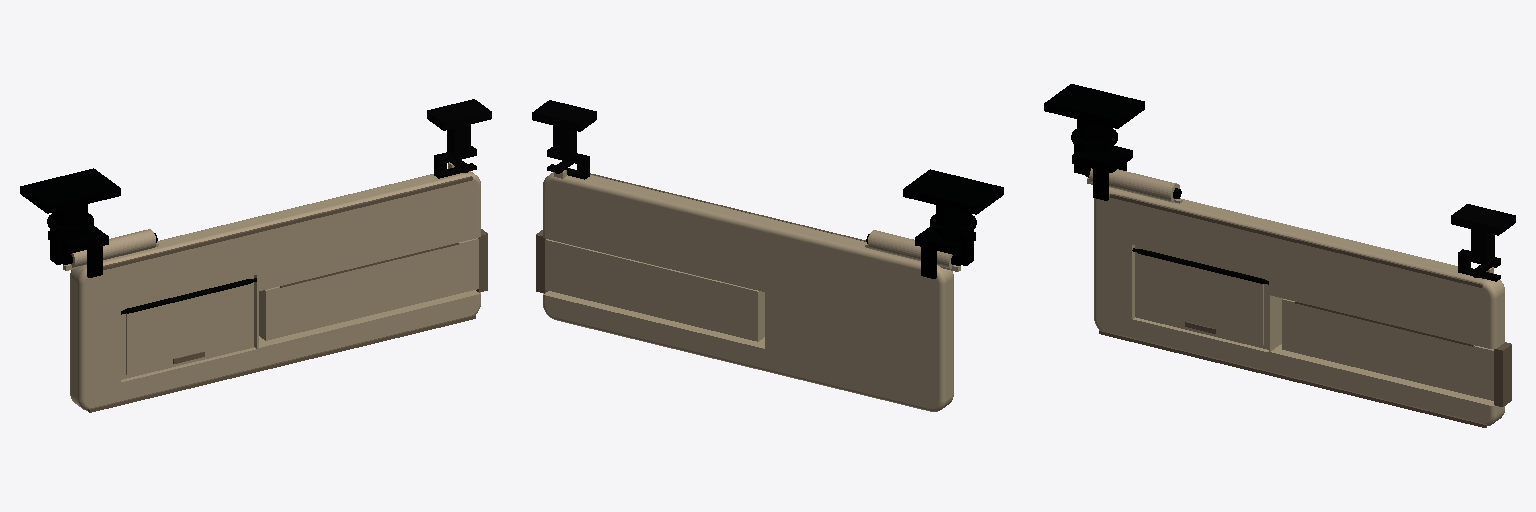
URDF robot description (padded_windshield_visor):
<robot name="padded_windshield_visor">
  <material name="warm_greige_padded_vinyl">
    <color rgba="0.68 0.62 0.52 1" />
    </material>
  <material name="slightly_dark_seam">
    <color rgba="0.43 0.38 0.31 1" />
    </material>
  <material name="dark_molded_plastic">
    <color rgba="0.03 0.032 0.03 1" />
    </material>
  <material name="satin_black_bracket">
    <color rgba="0.01 0.012 0.012 1" />
    </material>
  <material name="muted_mirror_glass">
    <color rgba="0.72 0.8 0.86 0.72" />
    </material>
  <link name="roof_bracket">
    <visual name="roof_mount_plate">
      <origin xyz="0 0 0.048" rpy="0 0 0" />
      <geometry>
        <box size="0.095 0.06 0.01" />
        </geometry>
      <material name="satin_black_bracket">
        <color rgba="0.01 0.012 0.012 1" />
        </material>
      </visual>
    <visual name="pivot_socket">
      <origin xyz="0 0 0.026" rpy="0 0 0" />
      <geometry>
        <cylinder radius="0.02" length="0.034" />
        </geometry>
      <material name="satin_black_bracket">
        <color rgba="0.01 0.012 0.012 1" />
        </material>
      </visual>
    <visual name="lower_washer">
      <origin xyz="0 0 0.01" rpy="0 0 0" />
      <geometry>
        <cylinder radius="0.026" length="0.006" />
        </geometry>
      <material name="satin_black_bracket">
        <color rgba="0.01 0.012 0.012 1" />
        </material>
      </visual>
    <collision name="roof_mount_plate">
      <origin xyz="0 0 0.048" rpy="0 0 0" />
      <geometry>
        <box size="0.095 0.06 0.01" />
        </geometry>
      </collision>
    <collision name="pivot_socket">
      <origin xyz="0 0 0.026" rpy="0 0 0" />
      <geometry>
        <cylinder radius="0.02" length="0.034" />
        </geometry>
      </collision>
    <collision name="lower_washer">
      <origin xyz="0 0 0.01" rpy="0 0 0" />
      <geometry>
        <cylinder radius="0.026" length="0.006" />
        </geometry>
      </collision>
    </link>
  <link name="retaining_clip">
    <visual name="clip_roof_base">
      <geometry>
        <box size="0.062 0.038 0.01" />
        </geometry>
      <material name="dark_molded_plastic">
        <color rgba="0.03 0.032 0.03 1" />
        </material>
      </visual>
    <visual name="clip_stem">
      <origin xyz="0 0 -0.028" rpy="0 0 0" />
      <geometry>
        <box size="0.02 0.018 0.046" />
        </geometry>
      <material name="dark_molded_plastic">
        <color rgba="0.03 0.032 0.03 1" />
        </material>
      </visual>
    <visual name="upper_jaw">
      <origin xyz="0 0 -0.049" rpy="0 0 0" />
      <geometry>
        <box size="0.04 0.01 0.008" />
        </geometry>
      <material name="dark_molded_plastic">
        <color rgba="0.03 0.032 0.03 1" />
        </material>
      </visual>
    <visual name="lower_jaw">
      <origin xyz="0 0 -0.068" rpy="0 0 0" />
      <geometry>
        <box size="0.04 0.01 0.004" />
        </geometry>
      <material name="dark_molded_plastic">
        <color rgba="0.03 0.032 0.03 1" />
        </material>
      </visual>
    <visual name="jaw_backbone">
      <origin xyz="-0.024 0 -0.0575" rpy="0 0 0" />
      <geometry>
        <box size="0.01 0.01 0.025" />
        </geometry>
      <material name="dark_molded_plastic">
        <color rgba="0.03 0.032 0.03 1" />
        </material>
      </visual>
    <collision name="clip_roof_base">
      <geometry>
        <box size="0.062 0.038 0.01" />
        </geometry>
      </collision>
    <collision name="clip_stem">
      <origin xyz="0 0 -0.028" rpy="0 0 0" />
      <geometry>
        <box size="0.02 0.018 0.046" />
        </geometry>
      </collision>
    <collision name="upper_jaw">
      <origin xyz="0 0 -0.049" rpy="0 0 0" />
      <geometry>
        <box size="0.04 0.01 0.008" />
        </geometry>
      </collision>
    <collision name="lower_jaw">
      <origin xyz="0 0 -0.068" rpy="0 0 0" />
      <geometry>
        <box size="0.04 0.01 0.004" />
        </geometry>
      </collision>
    <collision name="jaw_backbone">
      <origin xyz="-0.024 0 -0.0575" rpy="0 0 0" />
      <geometry>
        <box size="0.01 0.01 0.025" />
        </geometry>
      </collision>
    </link>
  <link name="swivel">
    <visual name="swivel_disk">
      <origin xyz="0 0 0.003" rpy="0 0 0" />
      <geometry>
        <cylinder radius="0.017" length="0.012" />
        </geometry>
      <material name="satin_black_bracket">
        <color rgba="0.01 0.012 0.012 1" />
        </material>
      </visual>
    <visual name="drop_link">
      <origin xyz="-0.014 0 -0.016" rpy="0 0 0" />
      <geometry>
        <box size="0.016 0.018 0.038" />
        </geometry>
      <material name="satin_black_bracket">
        <color rgba="0.01 0.012 0.012 1" />
        </material>
      </visual>
    <visual name="hinge_pin">
      <origin xyz="0.05 0 -0.035" rpy="0 1.5708 0" />
      <geometry>
        <cylinder radius="0.006" length="0.118" />
        </geometry>
      <material name="satin_black_bracket">
        <color rgba="0.01 0.012 0.012 1" />
        </material>
      </visual>
    <visual name="front_yoke_cheek">
      <origin xyz="0.02 -0.02 -0.035" rpy="0 0 0" />
      <geometry>
        <box size="0.018 0.006 0.036" />
        </geometry>
      <material name="satin_black_bracket">
        <color rgba="0.01 0.012 0.012 1" />
        </material>
      </visual>
    <visual name="rear_yoke_cheek">
      <origin xyz="0.02 0.02 -0.035" rpy="0 0 0" />
      <geometry>
        <box size="0.018 0.006 0.036" />
        </geometry>
      <material name="satin_black_bracket">
        <color rgba="0.01 0.012 0.012 1" />
        </material>
      </visual>
    <visual name="yoke_top_bridge">
      <origin xyz="0.01 0 -0.012" rpy="0 0 0" />
      <geometry>
        <box size="0.052 0.046 0.01" />
        </geometry>
      <material name="satin_black_bracket">
        <color rgba="0.01 0.012 0.012 1" />
        </material>
      </visual>
    <collision name="swivel_disk">
      <origin xyz="0 0 0.003" rpy="0 0 0" />
      <geometry>
        <cylinder radius="0.017" length="0.012" />
        </geometry>
      </collision>
    <collision name="drop_link">
      <origin xyz="-0.014 0 -0.016" rpy="0 0 0" />
      <geometry>
        <box size="0.016 0.018 0.038" />
        </geometry>
      </collision>
    <collision name="hinge_pin">
      <origin xyz="0.05 0 -0.035" rpy="0 1.5708 0" />
      <geometry>
        <cylinder radius="0.006" length="0.118" />
        </geometry>
      </collision>
    <collision name="front_yoke_cheek">
      <origin xyz="0.02 -0.02 -0.035" rpy="0 0 0" />
      <geometry>
        <box size="0.018 0.006 0.036" />
        </geometry>
      </collision>
    <collision name="rear_yoke_cheek">
      <origin xyz="0.02 0.02 -0.035" rpy="0 0 0" />
      <geometry>
        <box size="0.018 0.006 0.036" />
        </geometry>
      </collision>
    <collision name="yoke_top_bridge">
      <origin xyz="0.01 0 -0.012" rpy="0 0 0" />
      <geometry>
        <box size="0.052 0.046 0.01" />
        </geometry>
      </collision>
    </link>
  <link name="visor">
    <visual name="padded_body">
      <geometry>
        <mesh filename="assets/meshes/visor_padded_body.obj" />
        </geometry>
      <material name="warm_greige_padded_vinyl">
        <color rgba="0.68 0.62 0.52 1" />
        </material>
      </visual>
    <visual name="hinge_sleeve">
      <origin xyz="0.052 0 0" rpy="0 1.5708 0" />
      <geometry>
        <cylinder radius="0.011" length="0.105" />
        </geometry>
      <material name="warm_greige_padded_vinyl">
        <color rgba="0.68 0.62 0.52 1" />
        </material>
      </visual>
    <visual name="sleeve_neck">
      <origin xyz="0.052 0 -0.01" rpy="0 0 0" />
      <geometry>
        <box size="0.12 0.006 0.006" />
        </geometry>
      <material name="warm_greige_padded_vinyl">
        <color rgba="0.68 0.62 0.52 1" />
        </material>
      </visual>
    <visual name="mirror_glass">
      <origin xyz="0.145 -0.0085 -0.116" rpy="0 0 0" />
      <geometry>
        <box size="0.152 0.001 0.064" />
        </geometry>
      <material name="muted_mirror_glass">
        <color rgba="0.72 0.8 0.86 0.72" />
        </material>
      </visual>
    <visual name="mirror_hinge_pin">
      <origin xyz="0.145 -0.012 -0.076" rpy="0 1.5708 0" />
      <geometry>
        <cylinder radius="0.002" length="0.184" />
        </geometry>
      <material name="dark_molded_plastic">
        <color rgba="0.03 0.032 0.03 1" />
        </material>
      </visual>
    <visual name="clip_pin">
      <origin xyz="0.502 0 0" rpy="1.5708 0 0" />
      <geometry>
        <cylinder radius="0.005" length="0.034" />
        </geometry>
      <material name="dark_molded_plastic">
        <color rgba="0.03 0.032 0.03 1" />
        </material>
      </visual>
    <visual name="clip_pin_boss">
      <origin xyz="0.502 0.01 -0.007" rpy="0 0 0" />
      <geometry>
        <box size="0.012 0.008 0.008" />
        </geometry>
      <material name="warm_greige_padded_vinyl">
        <color rgba="0.68 0.62 0.52 1" />
        </material>
      </visual>
    <visual name="top_stitched_edge">
      <origin xyz="0.27 -0.015 -0.014" rpy="0 0 0" />
      <geometry>
        <box size="0.48 0.003 0.004" />
        </geometry>
      <material name="slightly_dark_seam">
        <color rgba="0.43 0.38 0.31 1" />
        </material>
      </visual>
    <visual name="lower_stitched_edge">
      <origin xyz="0.265 -0.015 -0.186" rpy="0 0 0" />
      <geometry>
        <box size="0.5 0.003 0.004" />
        </geometry>
      <material name="slightly_dark_seam">
        <color rgba="0.43 0.38 0.31 1" />
        </material>
      </visual>
    <collision name="padded_body">
      <geometry>
        <mesh filename="assets/meshes/visor_padded_body.obj" />
        </geometry>
      </collision>
    <collision name="hinge_sleeve">
      <origin xyz="0.052 0 0" rpy="0 1.5708 0" />
      <geometry>
        <cylinder radius="0.011" length="0.105" />
        </geometry>
      </collision>
    <collision name="sleeve_neck">
      <origin xyz="0.052 0 -0.01" rpy="0 0 0" />
      <geometry>
        <box size="0.12 0.006 0.006" />
        </geometry>
      </collision>
    <collision name="mirror_glass">
      <origin xyz="0.145 -0.0085 -0.116" rpy="0 0 0" />
      <geometry>
        <box size="0.152 0.001 0.064" />
        </geometry>
      </collision>
    <collision name="mirror_hinge_pin">
      <origin xyz="0.145 -0.012 -0.076" rpy="0 1.5708 0" />
      <geometry>
        <cylinder radius="0.002" length="0.184" />
        </geometry>
      </collision>
    <collision name="clip_pin">
      <origin xyz="0.502 0 0" rpy="1.5708 0 0" />
      <geometry>
        <cylinder radius="0.005" length="0.034" />
        </geometry>
      </collision>
    <collision name="clip_pin_boss">
      <origin xyz="0.502 0.01 -0.007" rpy="0 0 0" />
      <geometry>
        <box size="0.012 0.008 0.008" />
        </geometry>
      </collision>
    <collision name="top_stitched_edge">
      <origin xyz="0.27 -0.015 -0.014" rpy="0 0 0" />
      <geometry>
        <box size="0.48 0.003 0.004" />
        </geometry>
      </collision>
    <collision name="lower_stitched_edge">
      <origin xyz="0.265 -0.015 -0.186" rpy="0 0 0" />
      <geometry>
        <box size="0.5 0.003 0.004" />
        </geometry>
      </collision>
    </link>
  <link name="mirror_cover">
    <visual name="inset_flap">
      <origin xyz="0 0 -0.039" rpy="0 0 0" />
      <geometry>
        <box size="0.16 0.003 0.078" />
        </geometry>
      <material name="warm_greige_padded_vinyl">
        <color rgba="0.68 0.62 0.52 1" />
        </material>
      </visual>
    <visual name="flap_hinge_barrel">
      <origin xyz="0 0 0" rpy="0 1.5708 0" />
      <geometry>
        <cylinder radius="0.003" length="0.16" />
        </geometry>
      <material name="dark_molded_plastic">
        <color rgba="0.03 0.032 0.03 1" />
        </material>
      </visual>
    <visual name="finger_lip">
      <origin xyz="0 -0.002 -0.075" rpy="0 0 0" />
      <geometry>
        <box size="0.04 0.002 0.006" />
        </geometry>
      <material name="slightly_dark_seam">
        <color rgba="0.43 0.38 0.31 1" />
        </material>
      </visual>
    <collision name="inset_flap">
      <origin xyz="0 0 -0.039" rpy="0 0 0" />
      <geometry>
        <box size="0.16 0.003 0.078" />
        </geometry>
      </collision>
    <collision name="flap_hinge_barrel">
      <origin xyz="0 0 0" rpy="0 1.5708 0" />
      <geometry>
        <cylinder radius="0.003" length="0.16" />
        </geometry>
      </collision>
    <collision name="finger_lip">
      <origin xyz="0 -0.002 -0.075" rpy="0 0 0" />
      <geometry>
        <box size="0.04 0.002 0.006" />
        </geometry>
      </collision>
    </link>
  <link name="extender">
    <visual name="sliding_panel">
      <origin xyz="0.385 0 -0.125" rpy="0 0 0" />
      <geometry>
        <box size="0.276 0.018 0.062" />
        </geometry>
      <material name="warm_greige_padded_vinyl">
        <color rgba="0.68 0.62 0.52 1" />
        </material>
      </visual>
    <visual name="pull_edge">
      <origin xyz="0.528 0 -0.125" rpy="0 0 0" />
      <geometry>
        <box size="0.012 0.021 0.07" />
        </geometry>
      <material name="slightly_dark_seam">
        <color rgba="0.43 0.38 0.31 1" />
        </material>
      </visual>
    <visual name="extender_top_seam">
      <origin xyz="0.38 -0.01 -0.092" rpy="0 0 0" />
      <geometry>
        <box size="0.23 0.002 0.004" />
        </geometry>
      <material name="slightly_dark_seam">
        <color rgba="0.43 0.38 0.31 1" />
        </material>
      </visual>
    <collision name="sliding_panel">
      <origin xyz="0.385 0 -0.125" rpy="0 0 0" />
      <geometry>
        <box size="0.276 0.018 0.062" />
        </geometry>
      </collision>
    <collision name="pull_edge">
      <origin xyz="0.528 0 -0.125" rpy="0 0 0" />
      <geometry>
        <box size="0.012 0.021 0.07" />
        </geometry>
      </collision>
    <collision name="extender_top_seam">
      <origin xyz="0.38 -0.01 -0.092" rpy="0 0 0" />
      <geometry>
        <box size="0.23 0.002 0.004" />
        </geometry>
      </collision>
    </link>
  <joint name="bracket_to_clip" type="fixed">
    <origin xyz="0.502 0 0.025" rpy="0 0 0" />
    <parent link="roof_bracket" />
    <child link="retaining_clip" />
    </joint>
  <joint name="bracket_to_swivel" type="revolute">
    <parent link="roof_bracket" />
    <child link="swivel" />
    <axis xyz="0 0 1" />
    <limit effort="8" velocity="1" lower="0" upper="1.75" />
    </joint>
  <joint name="swivel_to_visor" type="revolute">
    <origin xyz="0 0 -0.035" rpy="0 0 0" />
    <parent link="swivel" />
    <child link="visor" />
    <axis xyz="1 0 0" />
    <limit effort="10" velocity="1.3" lower="0" upper="1.9" />
    </joint>
  <joint name="visor_to_mirror_cover" type="revolute">
    <origin xyz="0.145 -0.012 -0.076" rpy="0 0 0" />
    <parent link="visor" />
    <child link="mirror_cover" />
    <axis xyz="-1 0 0" />
    <limit effort="1" velocity="2" lower="0" upper="1.65" />
    </joint>
  <joint name="visor_to_extender" type="prismatic">
    <parent link="visor" />
    <child link="extender" />
    <axis xyz="1 0 0" />
    <limit effort="12" velocity="0.2" lower="0" upper="0.16" />
    </joint>
  </robot>

--- Render facts (derived) ---
The picture shows the robot from 3 angles, left to right: view 1: azimuth 30°, elevation 25°; view 2: azimuth 150°, elevation 25°; view 3: azimuth 330°, elevation 25°; orthographic projection.
Model padded_windshield_visor with 6 links and 5 joints (3 revolute, 1 prismatic, 1 fixed), rooted at roof_bracket, posed every joint at zero.
Links seen in each view (by area): view 1: visor, extender, mirror_cover, roof_bracket, retaining_clip, swivel; view 2: visor, extender, roof_bracket, retaining_clip, swivel; view 3: visor, extender, mirror_cover, roof_bracket, retaining_clip, swivel.
Boxes of the visible links, x1=… form: visor: x1=63, y1=160, x2=480, y2=412; extender: x1=259, y1=229, x2=487, y2=340; mirror_cover: x1=125, y1=279, x2=250, y2=374; roof_bracket: x1=20, y1=168, x2=120, y2=233; retaining_clip: x1=427, y1=99, x2=491, y2=178; swivel: x1=48, y1=226, x2=157, y2=277; visor: x1=543, y1=161, x2=960, y2=411; extender: x1=536, y1=230, x2=764, y2=341; roof_bracket: x1=903, y1=169, x2=1003, y2=234; retaining_clip: x1=532, y1=100, x2=596, y2=179; swivel: x1=866, y1=227, x2=975, y2=278; visor: x1=1087, y1=168, x2=1504, y2=427; extender: x1=1282, y1=299, x2=1511, y2=406; mirror_cover: x1=1138, y1=249, x2=1264, y2=344; roof_bracket: x1=1044, y1=84, x2=1144, y2=148; retaining_clip: x1=1451, y1=204, x2=1515, y2=281; swivel: x1=1072, y1=144, x2=1181, y2=200.
Size in the robot's own frame: 0.5815 by 0.06 by 0.278 metres.
1 mesh visuals loaded from 1 distinct referenced files (1 OBJ).
